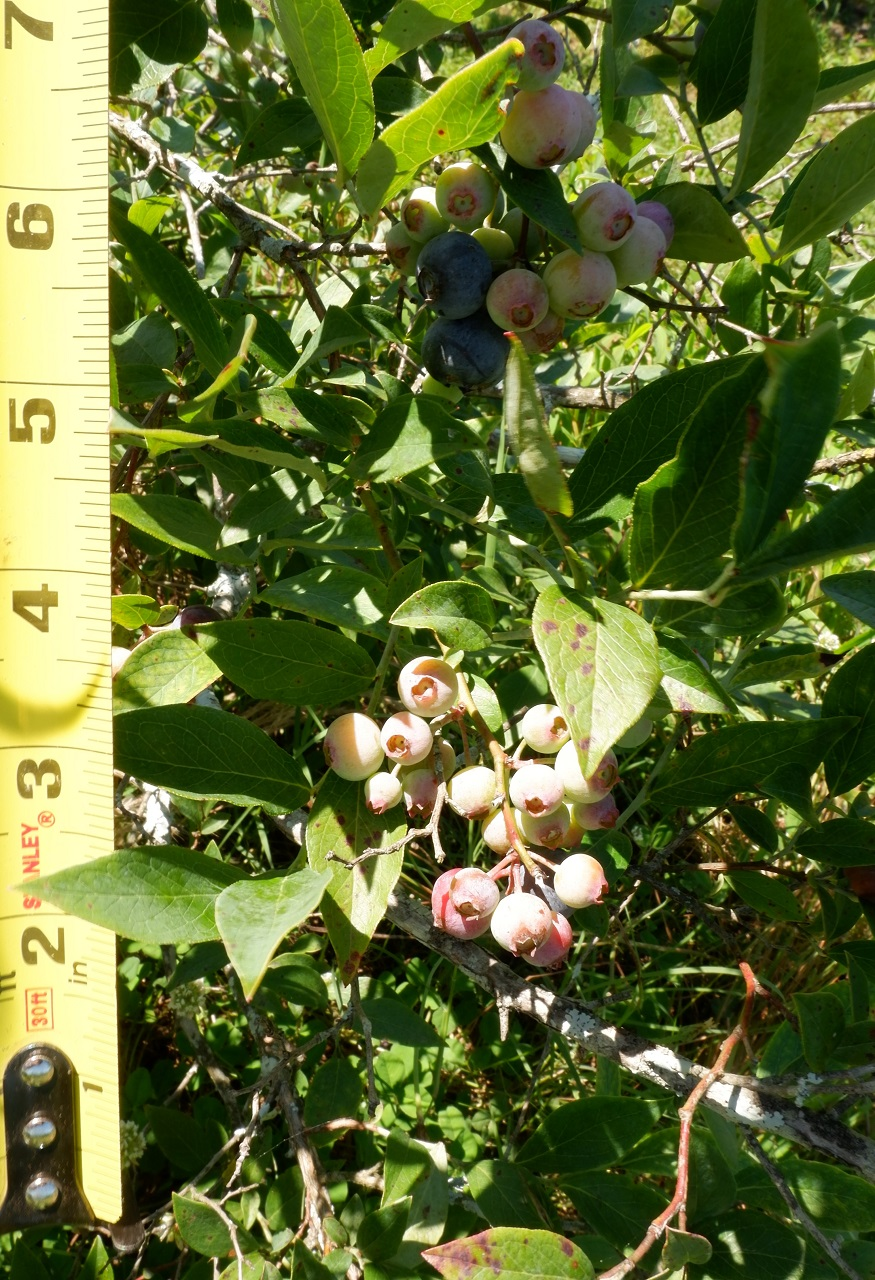Immature: (499, 83, 582, 170), (540, 247, 617, 319), (603, 215, 667, 287), (573, 182, 638, 252), (432, 868, 494, 940), (504, 20, 565, 90), (323, 712, 384, 781), (485, 268, 550, 332), (555, 740, 620, 804), (435, 162, 497, 228), (491, 892, 552, 957), (397, 656, 459, 718), (388, 737, 456, 784), (554, 853, 609, 909), (509, 764, 567, 817), (521, 910, 573, 968), (558, 90, 597, 164), (381, 711, 433, 766), (447, 766, 499, 820), (400, 187, 450, 242), (498, 207, 548, 262), (450, 868, 501, 921), (516, 801, 570, 850), (481, 806, 532, 856), (522, 704, 571, 754), (514, 306, 565, 353), (385, 221, 426, 277), (471, 227, 515, 278), (401, 768, 439, 819), (637, 200, 676, 249), (574, 793, 620, 830), (365, 771, 403, 814), (558, 793, 587, 848), (614, 718, 652, 747)
Mature: (421, 301, 510, 389), (415, 231, 492, 318), (520, 843, 576, 917)
